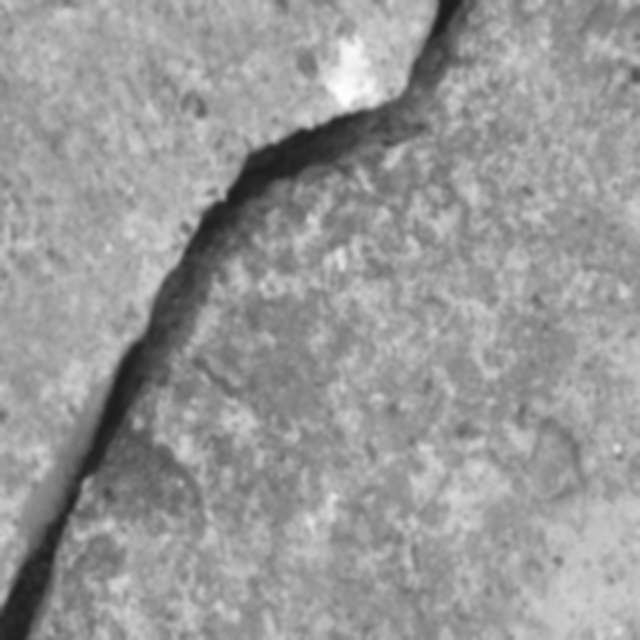SurfaceCrack: (1, 0, 640, 640)
